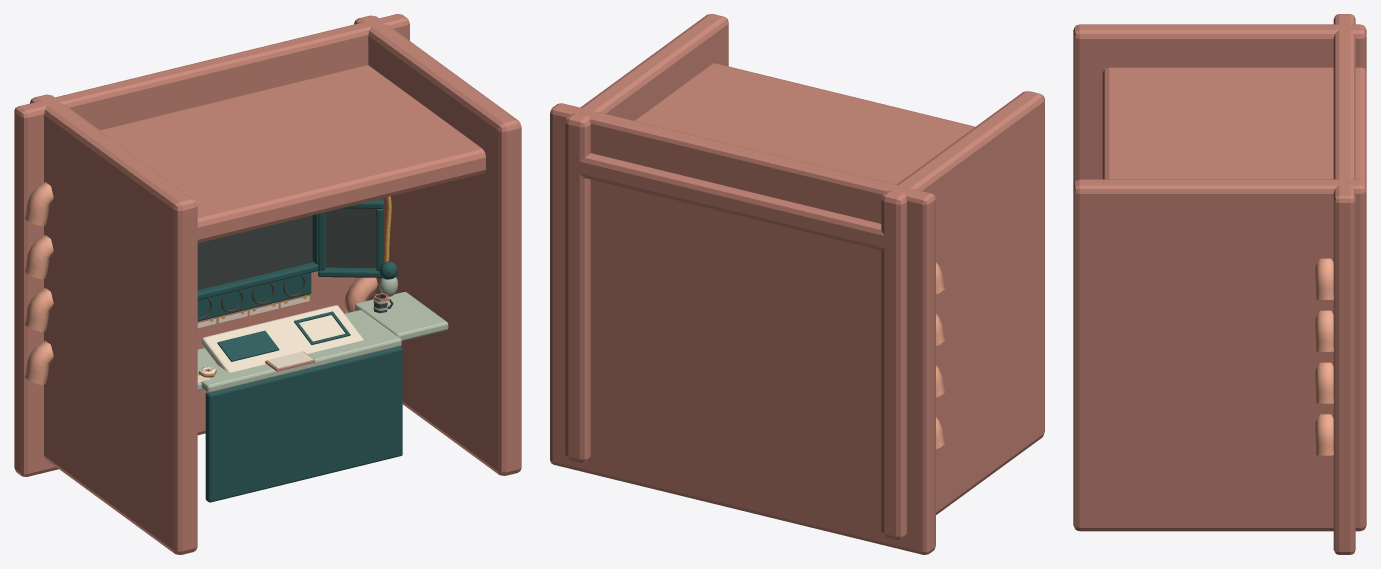
File: cockpit_blockout.glb
The picture shows the model from 3 angles, left to right: view 1: azimuth 30°, elevation 25°; view 2: azimuth 150°, elevation 25°; view 3: azimuth 270°, elevation 25°; orthographic projection. The views are drawn at different scales.
Parts seen in each view (by area): view 1: BrainLeft, BrainRight, BrainCeiling, BrainBacking, DeskFront, FrontScreen_Back, ConsoleSlab, Desk, RightPanel_Back, RightClutterLedge, GaugeRail, FrontScreen_Bottom (+6 smaller); view 2: BrainBacking, BrainLeft, BrainCeiling, BrainRight; view 3: BrainRight, BrainCeiling, BrainLeft, BrainBacking, BrainFold_1_0, BrainFold_1_1, BrainFold_1_2, BrainFold_1_3.
Boxes of the visible parts, box(x1,y1,x2,y2) form: BrainLeft: box(30, 94, 197, 554); BrainRight: box(354, 15, 521, 475); BrainCeiling: box(100, 65, 485, 242); BrainBacking: box(14, 14, 409, 476); DeskFront: box(205, 346, 402, 502); FrontScreen_Back: box(197, 215, 312, 290); ConsoleSlab: box(201, 305, 363, 372); Desk: box(197, 310, 401, 392); RightPanel_Back: box(325, 198, 383, 268); RightClutterLedge: box(355, 292, 448, 340); GaugeRail: box(197, 273, 311, 321); FrontScreen_Bottom: box(197, 262, 318, 300); BrainBacking: box(550, 103, 935, 554); BrainLeft: box(881, 91, 1044, 540); BrainCeiling: box(579, 63, 975, 250); BrainRight: box(565, 14, 728, 462); BrainRight: box(1073, 179, 1366, 531); BrainCeiling: box(1102, 67, 1366, 184); BrainLeft: box(1073, 24, 1366, 184); BrainBacking: box(1333, 14, 1355, 554); BrainFold_1_0: box(1314, 414, 1333, 455); BrainFold_1_1: box(1314, 362, 1333, 403); BrainFold_1_2: box(1314, 310, 1333, 351); BrainFold_1_3: box(1314, 258, 1333, 299).
Size of the model in its own units: 3 by 2.7 by 2.
